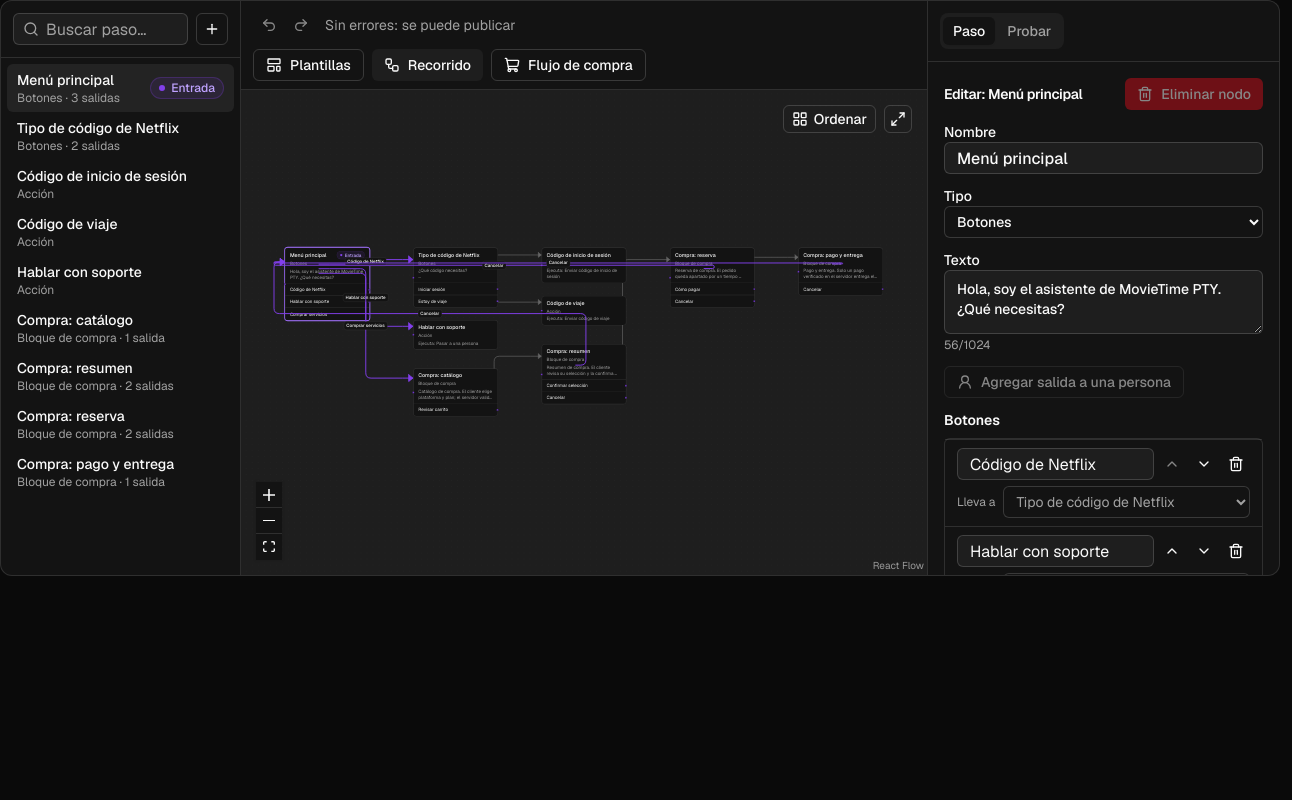
Test: estudio del recorrido con el flujo de compras › "Restaurar original" deja el texto original aunque haya uno guardado fuera del recorrido
Click the button "Compra: catálogo Bloque de compra · 1 salida" at (120, 328), box [7,304,234,352]
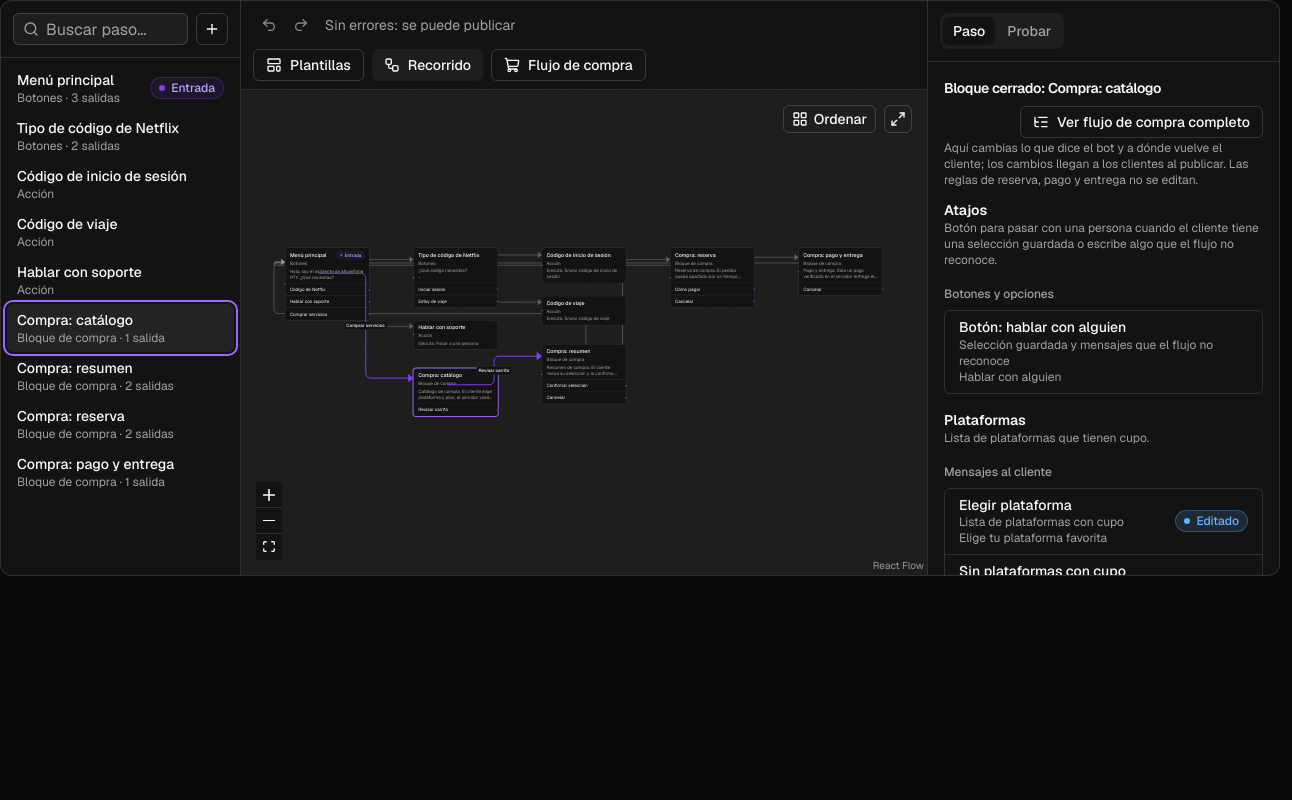
Click the button that starts with "Elegir plataforma" at (1104, 521), box [945,488,1262,554]
(page scrolled)
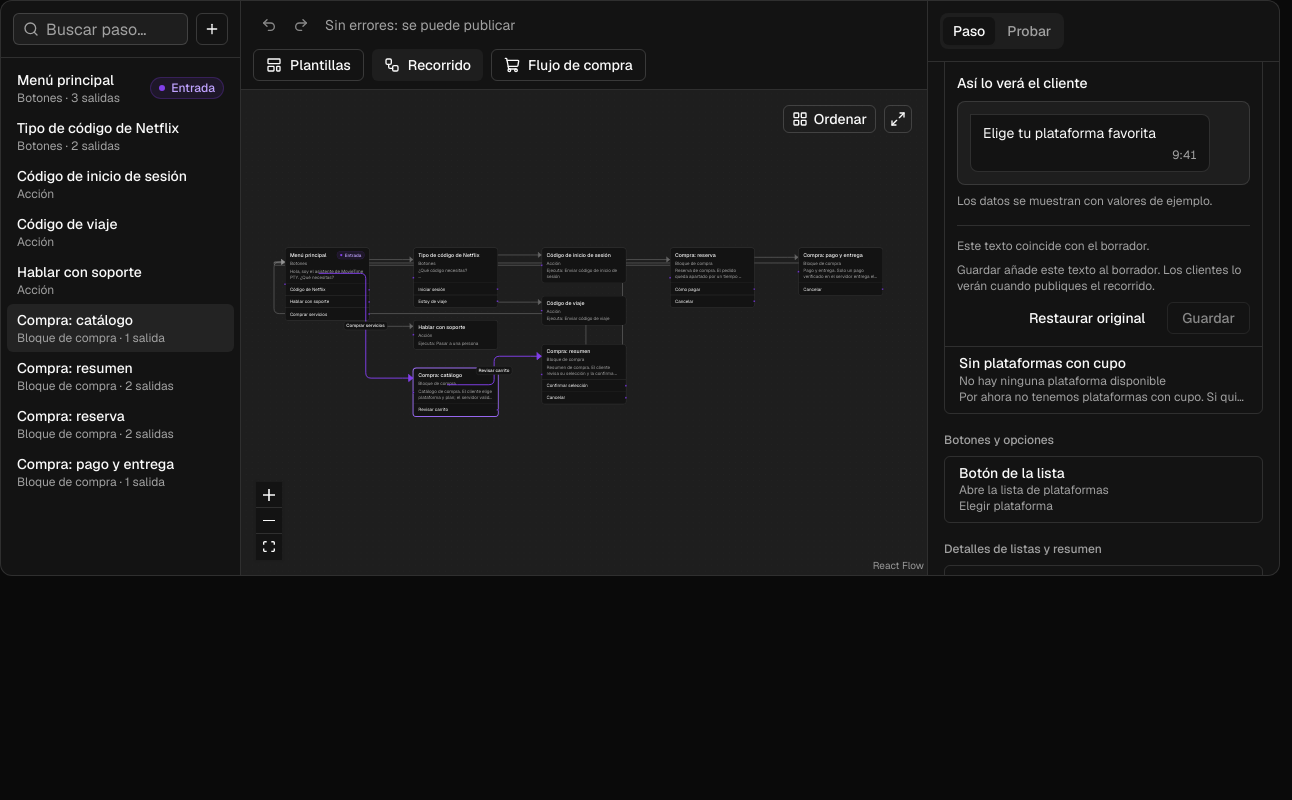
Click the button "Restaurar original" at (1087, 318), box [1015,302,1159,334]
(page scrolled)
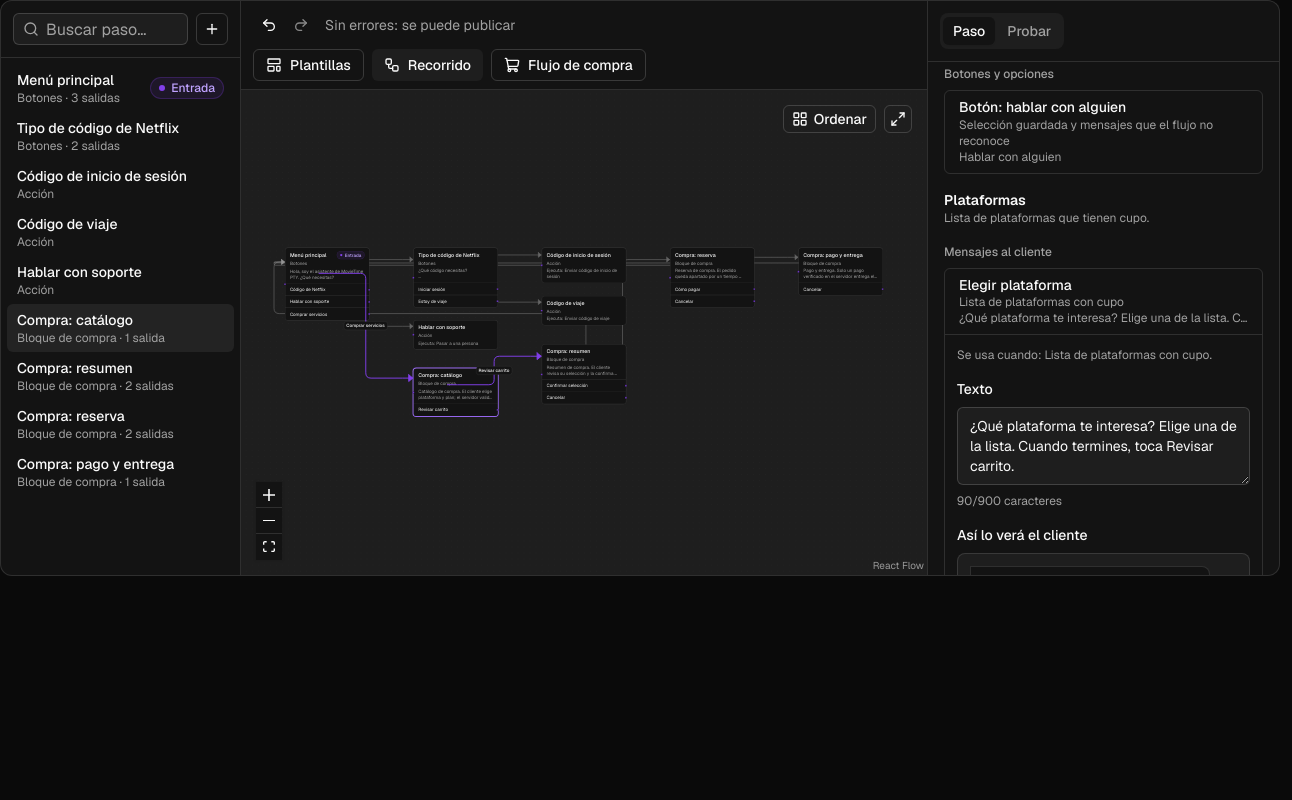
Check: the text "¿Qué plataforma te interesa?" is shown, box [959,310,1279,326]
Check: the text "Elige tu plataforma favorita" is gone
